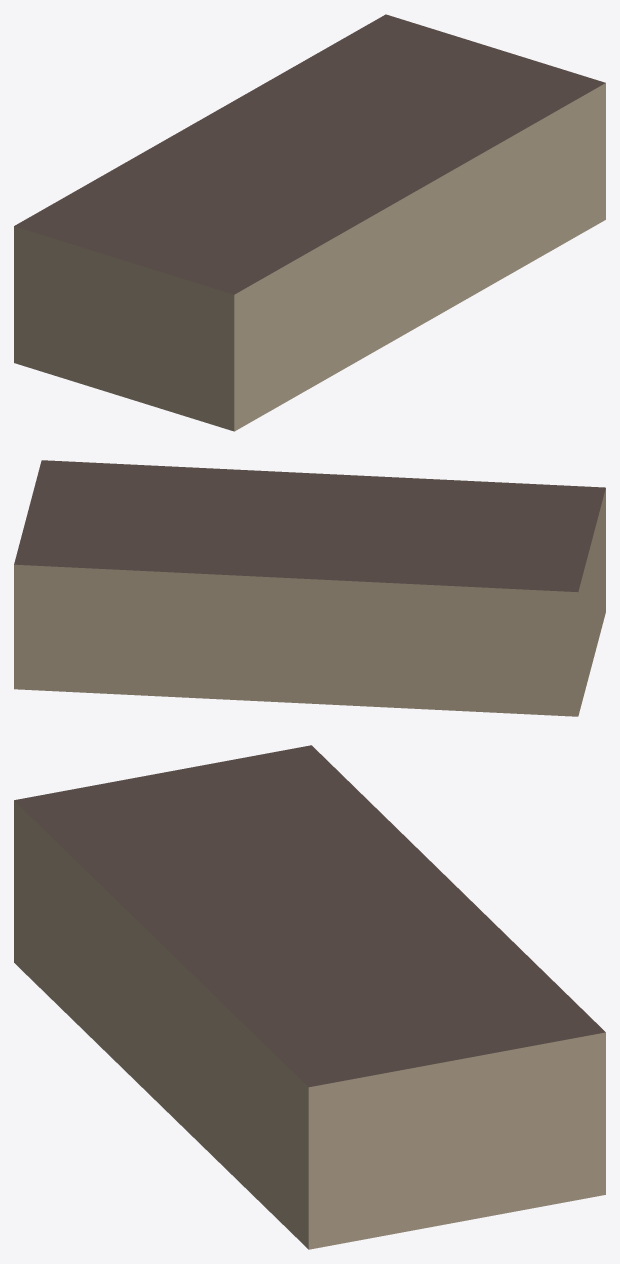
3 views of the same model, one above another, from view 1: azimuth 30°, elevation 25°; view 2: azimuth 150°, elevation 25°; view 3: azimuth 270°, elevation 25° (orthographic). The views are drawn at different scales.
Visible parts, largest first — view 1: HP-w1287260194; view 2: HP-w1287260194; view 3: HP-w1287260194.
Part boxes in pixels (x1=…): HP-w1287260194: x1=14, y1=14, x2=605, y2=431; HP-w1287260194: x1=14, y1=460, x2=605, y2=716; HP-w1287260194: x1=14, y1=745, x2=605, y2=1249.
Size of the model in its own units: 40.65 by 9 by 29.73.
